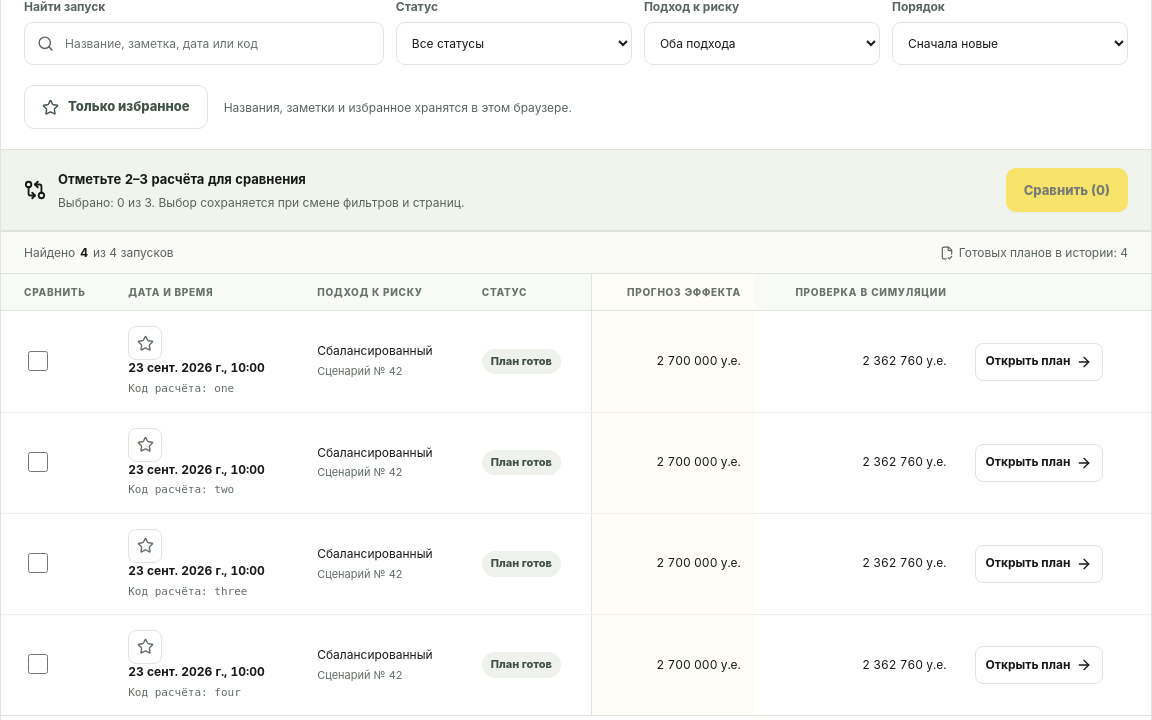
Scenario: limits history selection to three, keeps selected rows removable and builds the comparison link
(page scrolled)
Step 1. Click the checkbox named "Сравнить расчёт one" → {"x": 38, "y": 361}, box x1=28 y1=351 x2=48 y2=371
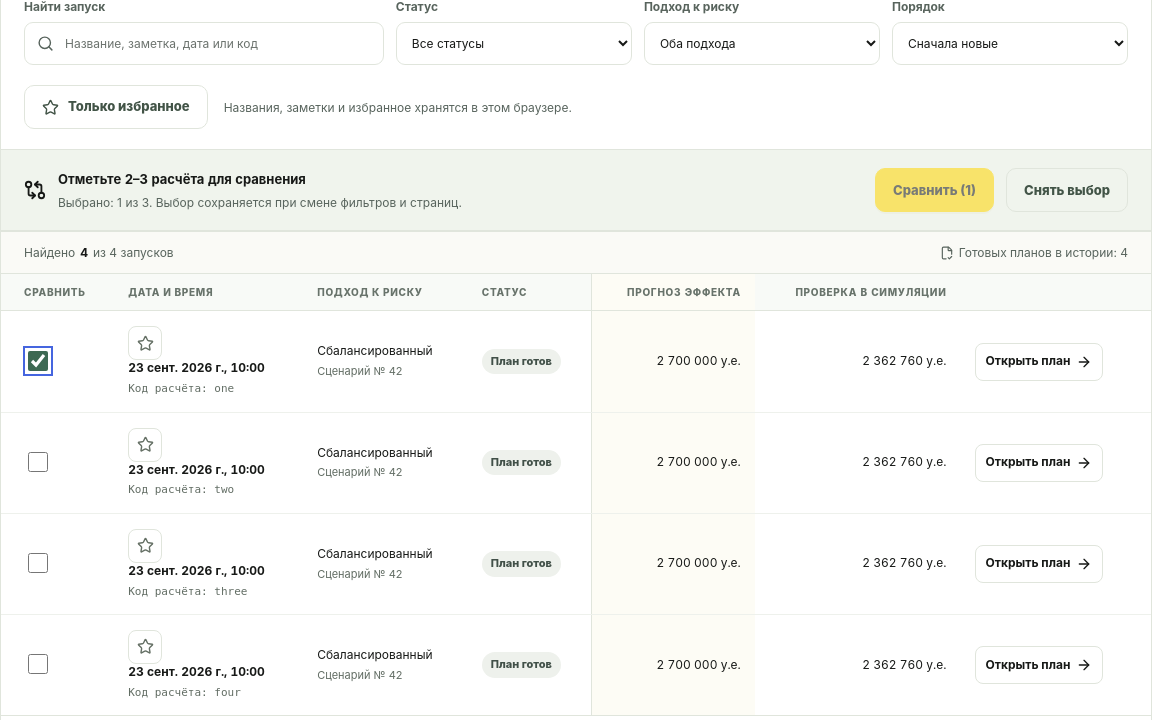
Step 2. Click the checkbox named "Сравнить расчёт two" → {"x": 38, "y": 462}, box x1=28 y1=452 x2=48 y2=472
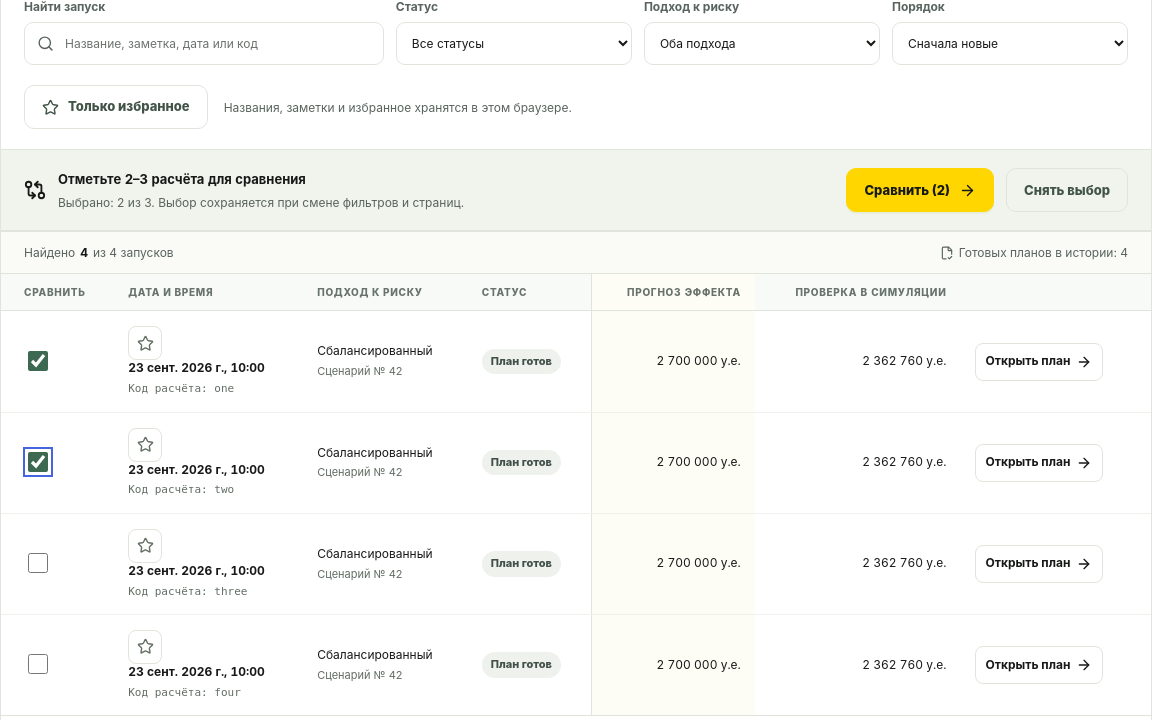
Step 3. Click the checkbox named "Сравнить расчёт three" → {"x": 38, "y": 563}, box x1=28 y1=553 x2=48 y2=573
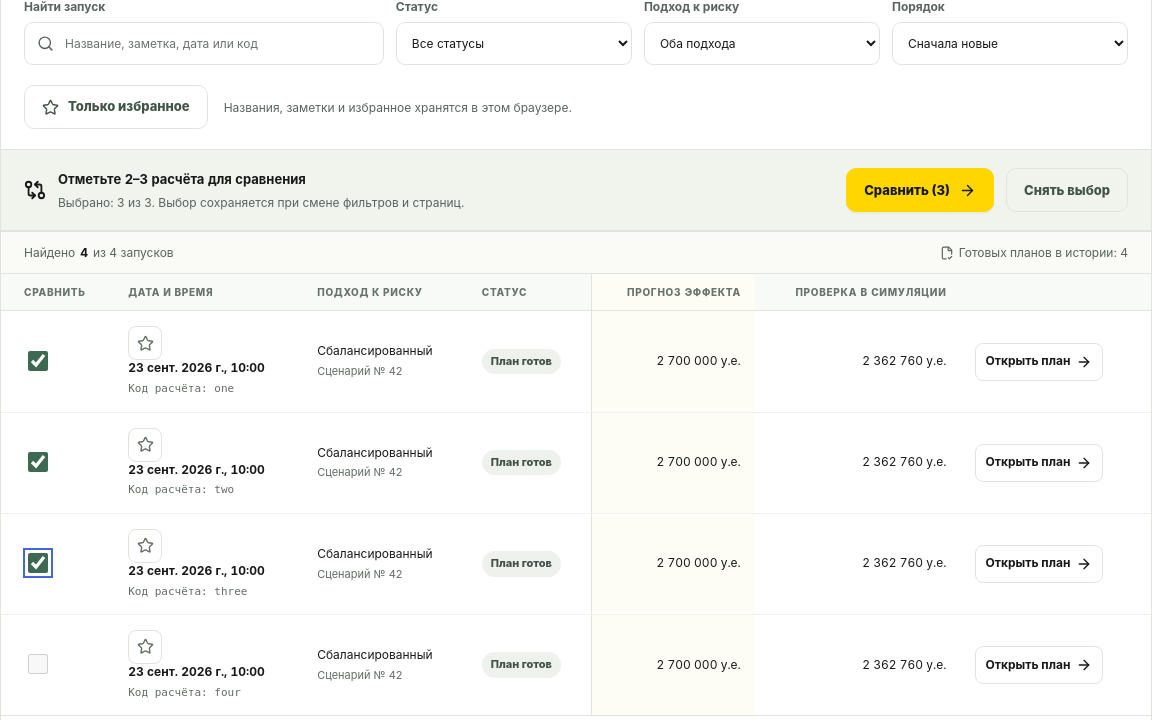
Now the checkbox named "Сравнить расчёт four" is disabled, box x1=28 y1=654 x2=48 y2=674
Step 4. Click the checkbox named "Сравнить расчёт two" → {"x": 38, "y": 462}, box x1=28 y1=452 x2=48 y2=472
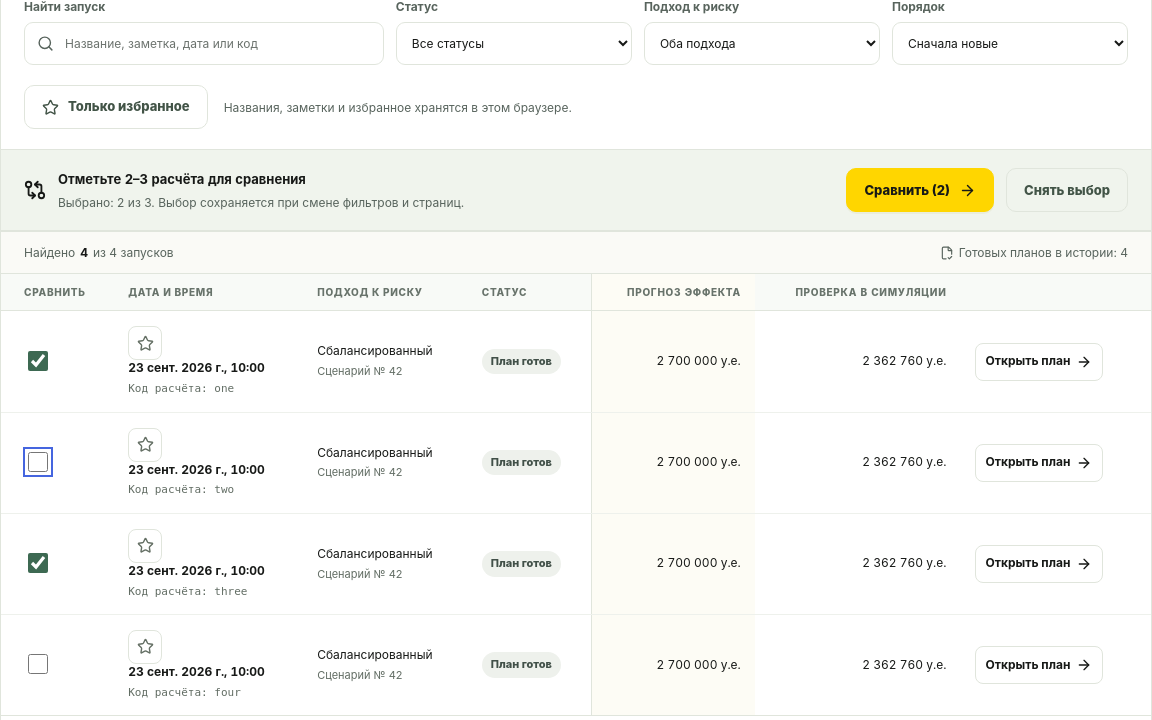
Now the checkbox named "Сравнить расчёт four" is enabled, box x1=28 y1=654 x2=48 y2=674
